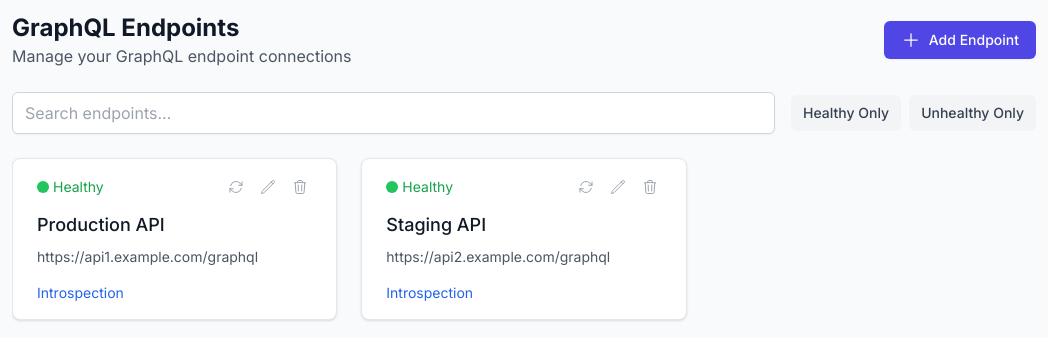
Test: EndpointList › filtering and search › should search endpoints by name
Type "Production" into the field with test id "search-input".
click(394, 113); type("Production")  # box [12, 92, 775, 134]
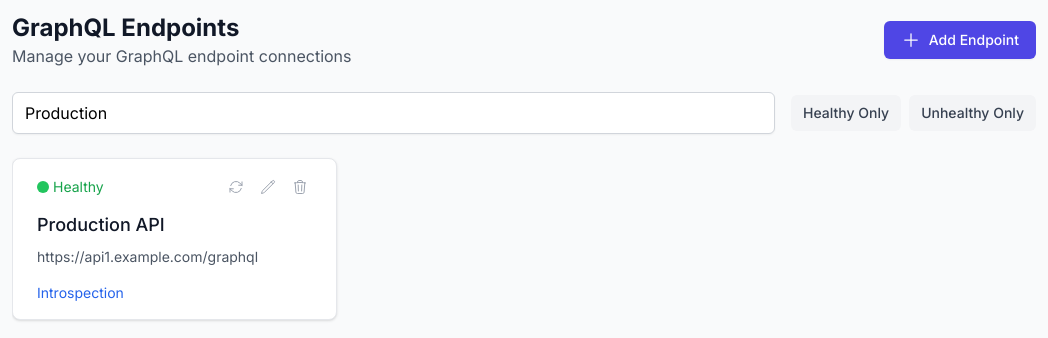
Check: the text "Production API" is shown, box [37, 214, 165, 235]
Check: the text "Staging API" is gone
